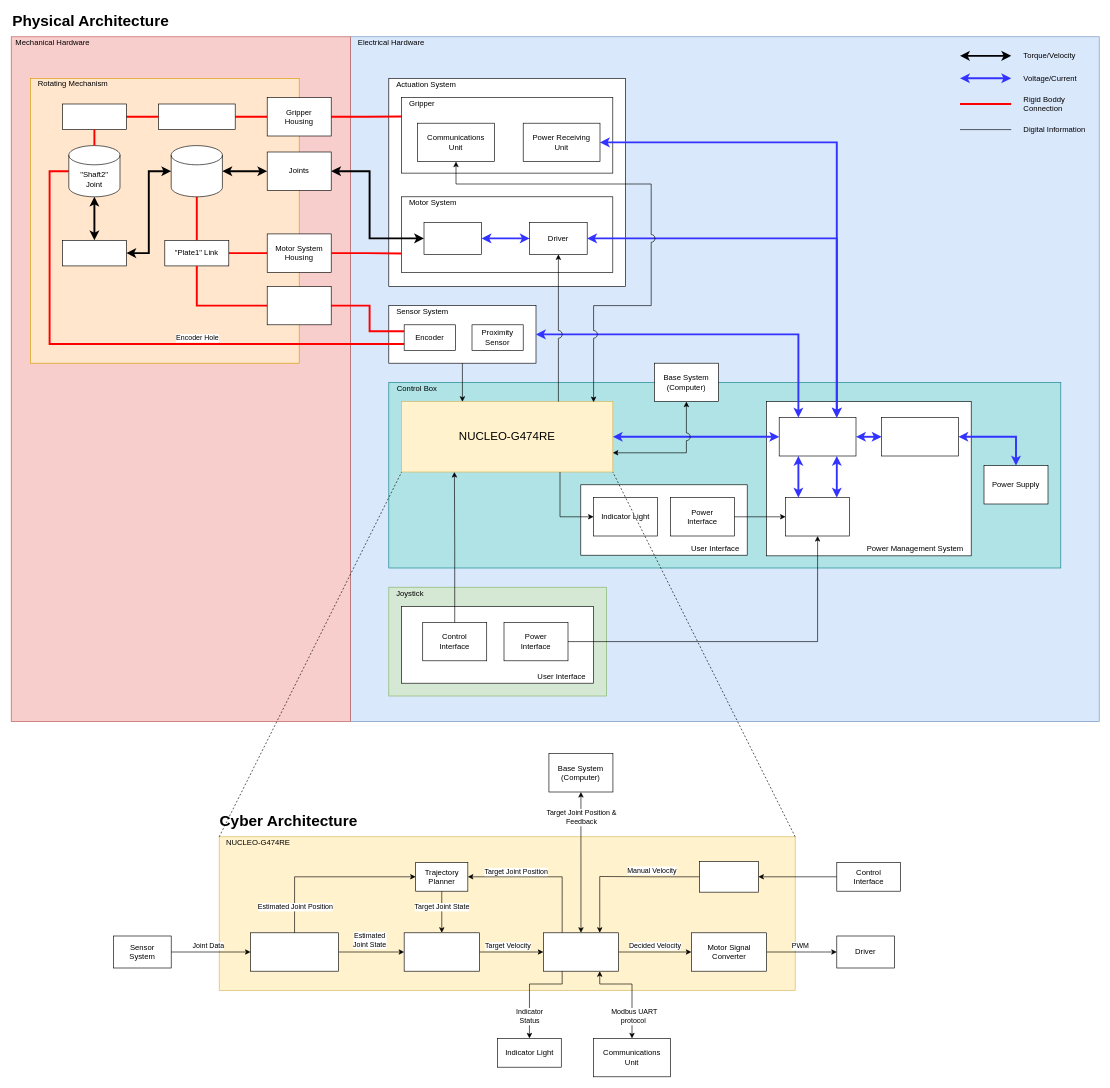
This 1110x1088 diagram has some shape labels left out. Here are the shapes that lost their labels. From the top down, the centre of each, then its label:
pixel 94 116: "Plate for motor" Link
pixel 196 116: "Aluminium Profile" Link
pixel 196 171: "Shaft1" Joint
pixel 94 253: Transmission System
pixel 452 238: Motor
pixel 299 305: Encoder Housing
pixel 817 436: Power Distribution Unit
pixel 919 436: Power Safety Unit
pixel 817 516: Power Control Unit
pixel 728 876: Velocity Calculator
pixel 294 951: Joint State Estimation
pixel 441 951: Trajectory Tracking
pixel 581 951: State Machine
